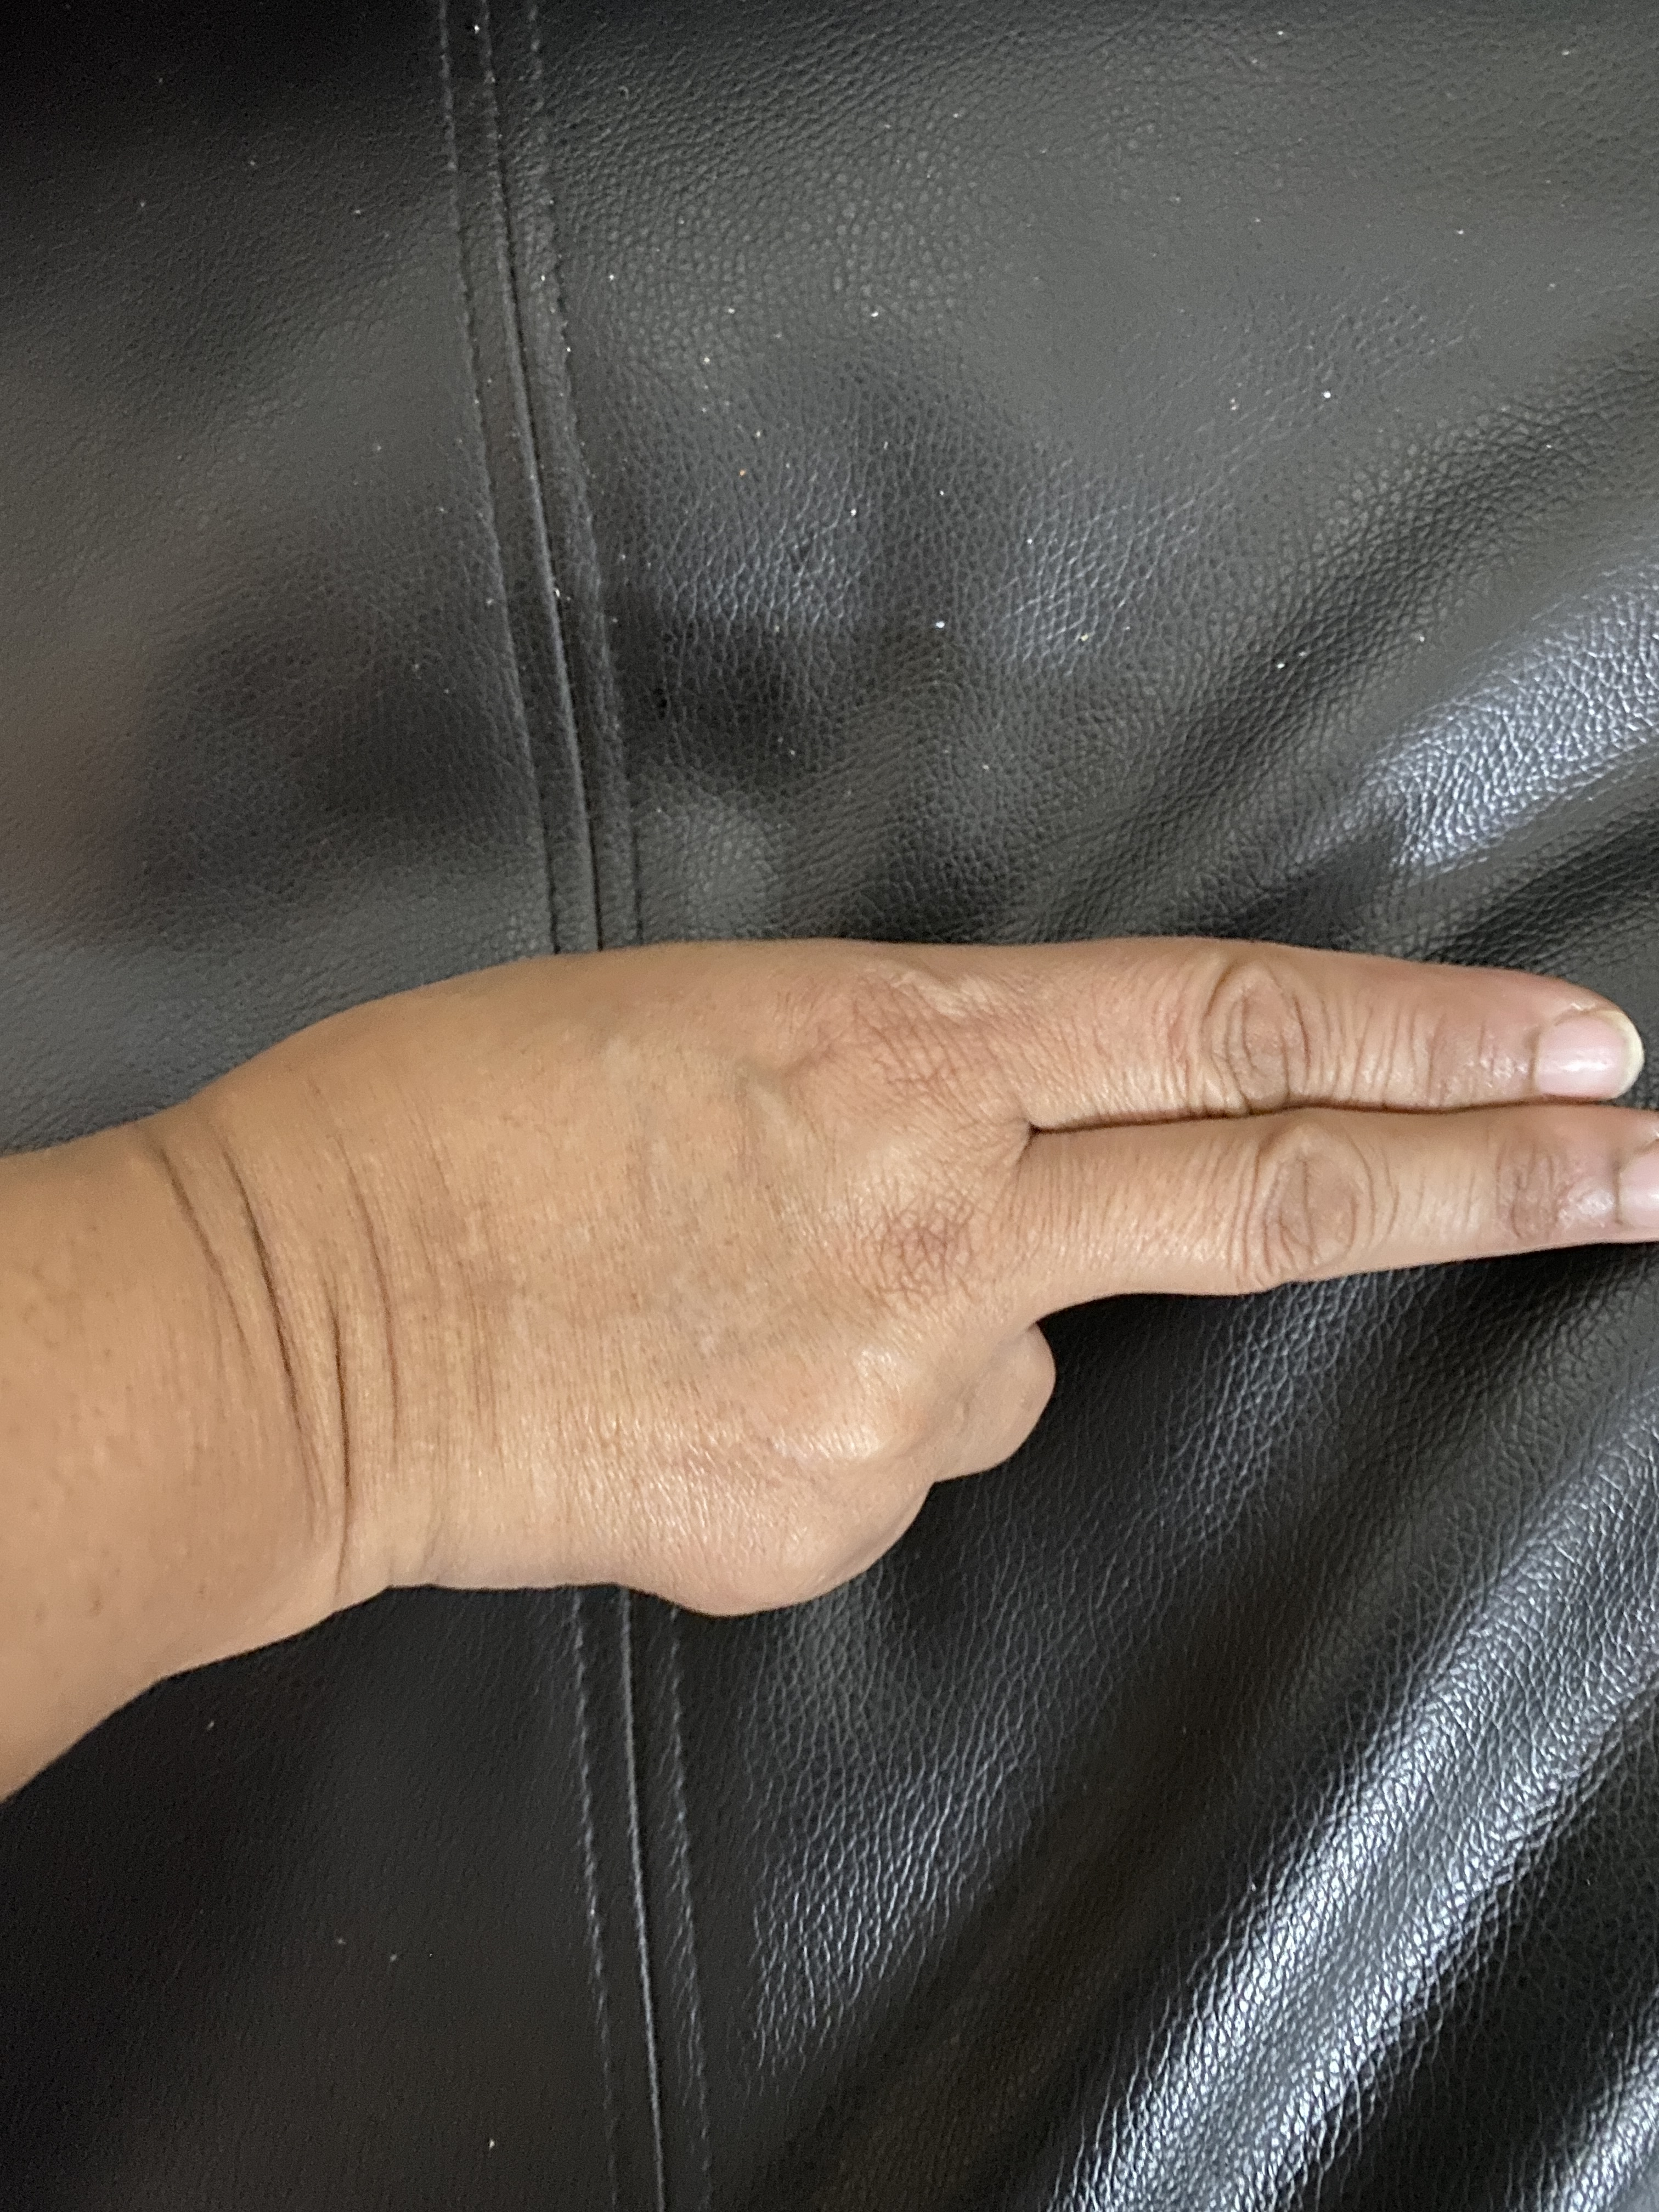left: (12, 864, 1659, 1926)
